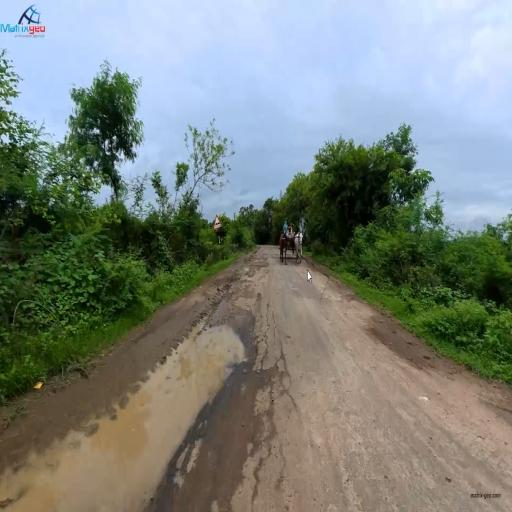longitudinal_crack: (261, 292, 281, 368), (248, 462, 269, 511)
